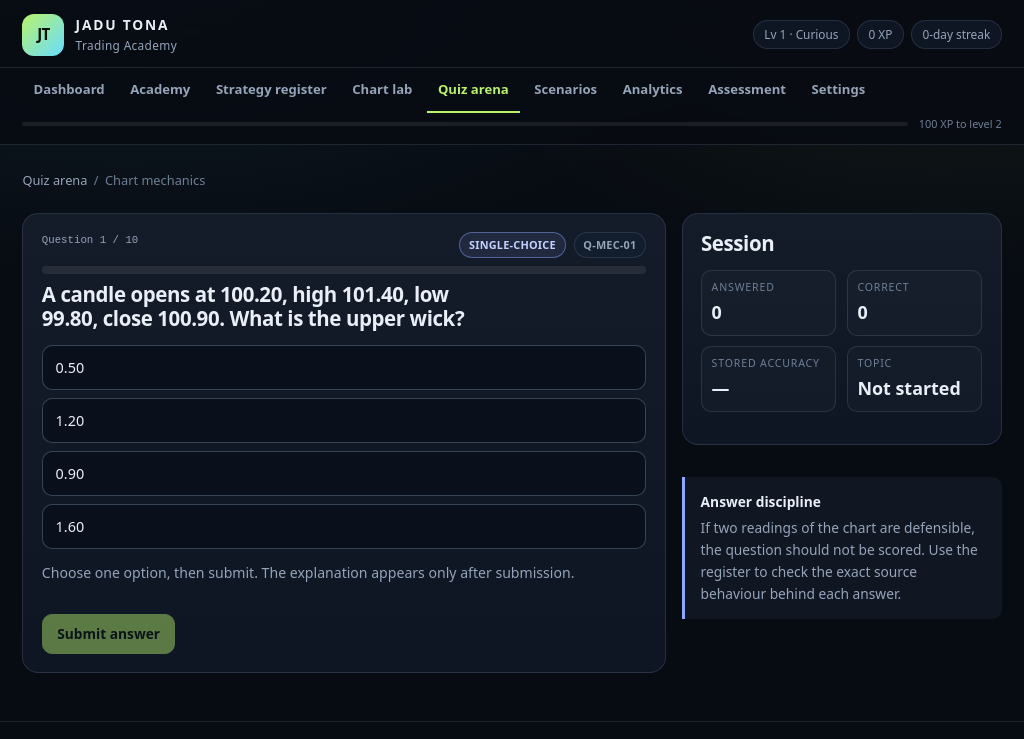
Scenario: quiz flow › scores a correct answer once and shows the explanation only after submission
This screenshot has width=1024, height=739.
Click the button "0.50". click: (70, 368)
box: [42, 345, 646, 390]
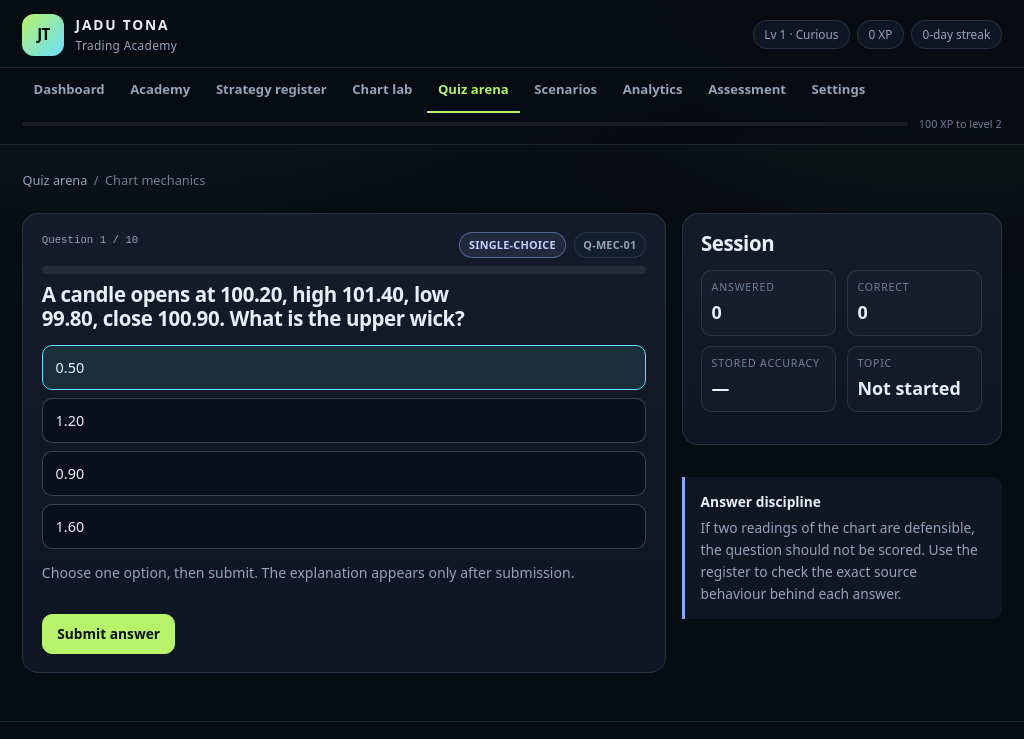
Click the button "Submit answer". click: (109, 634)
box: [42, 614, 176, 654]
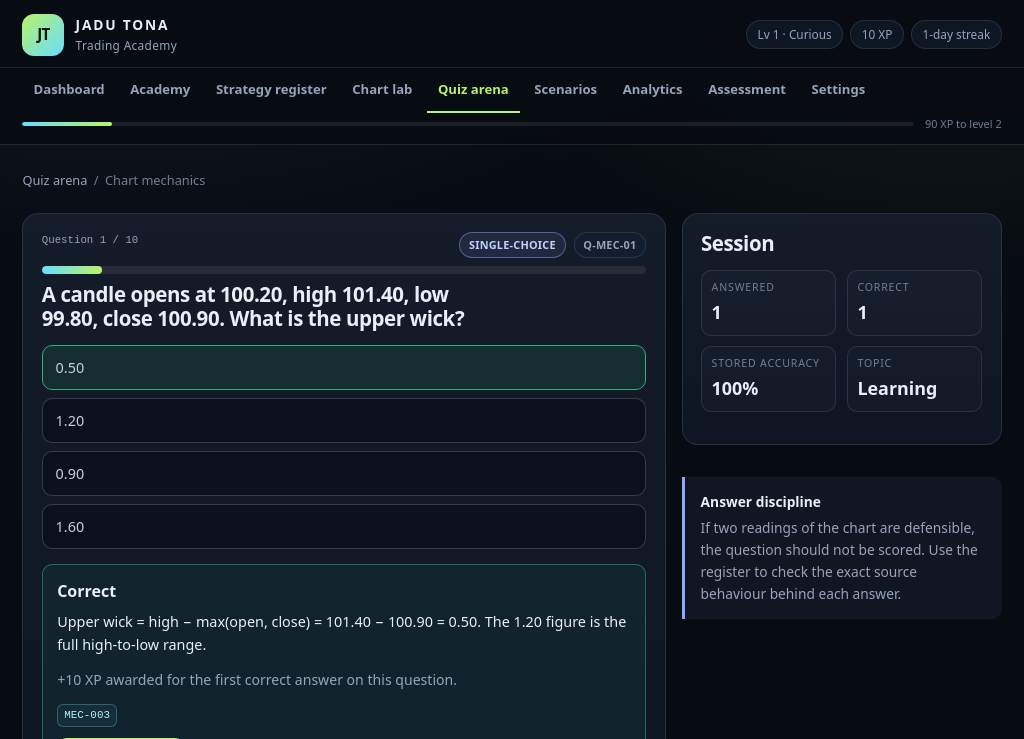
Result: the 2nd text "Correct" is shown at [57, 580, 116, 602]
Result: the text "Upper wick = high − max(open, close) = 101.40 − 100.90 = 0.50. The 1.20 figure is the full high-to-low range." is shown at [57, 612, 626, 654]
Result: the text "+10 XP awarded" is shown at [57, 670, 457, 688]
